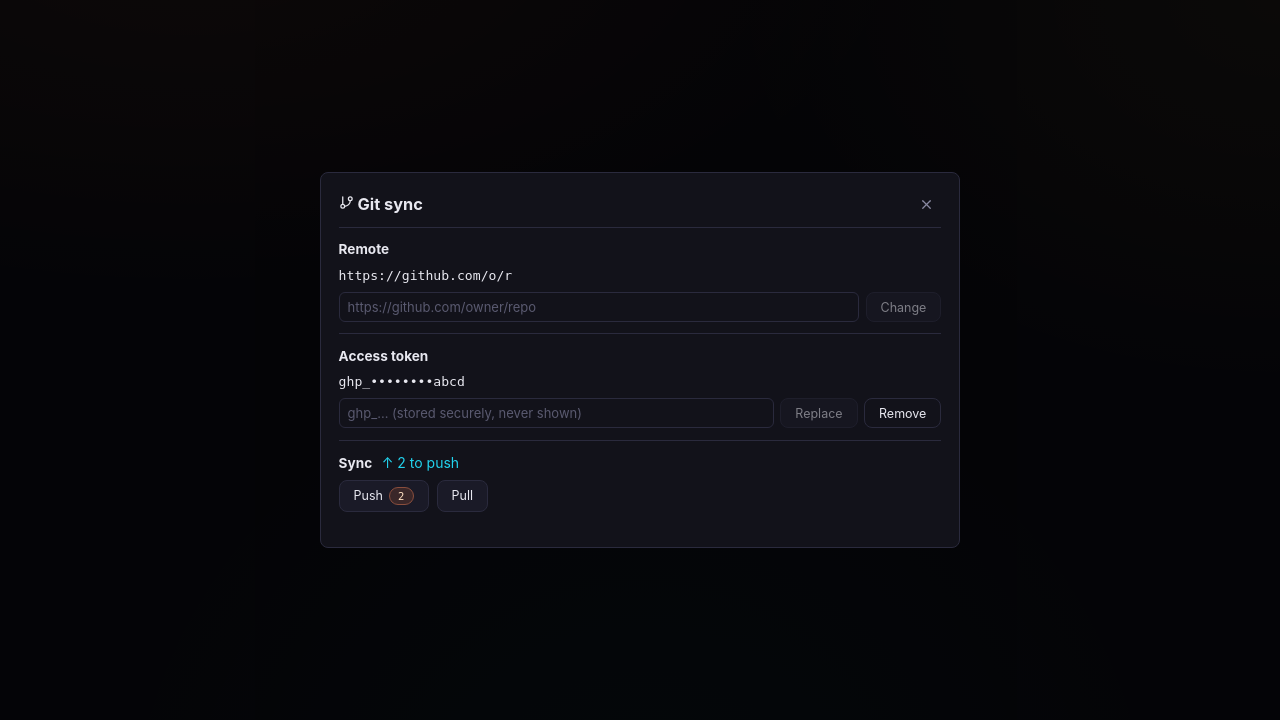
Test: GitSyncPanel — pull › a conflict outcome swaps to the conflict resolver
This screenshot has width=1280, height=720.
Click the button with test id "pull-btn" at (462, 496), box [437, 480, 488, 512]
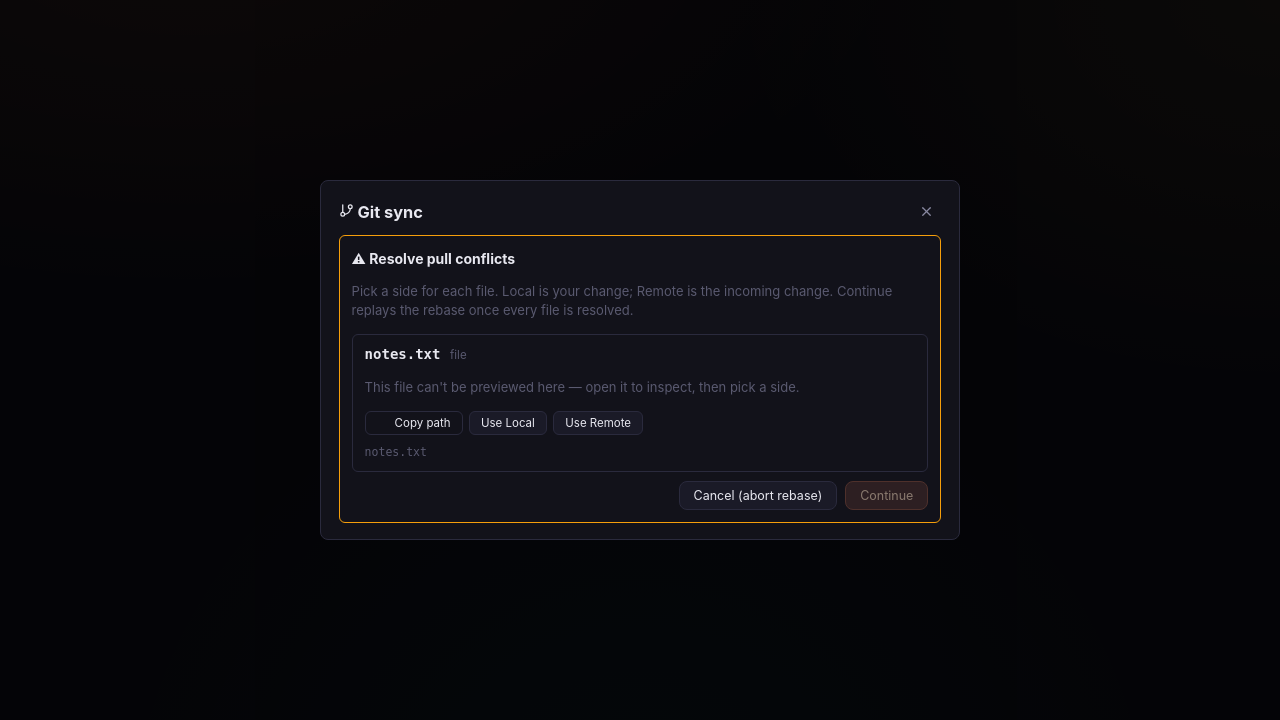
Now the element with test id "conflict-resolver" is shown, box [339, 235, 941, 523]
